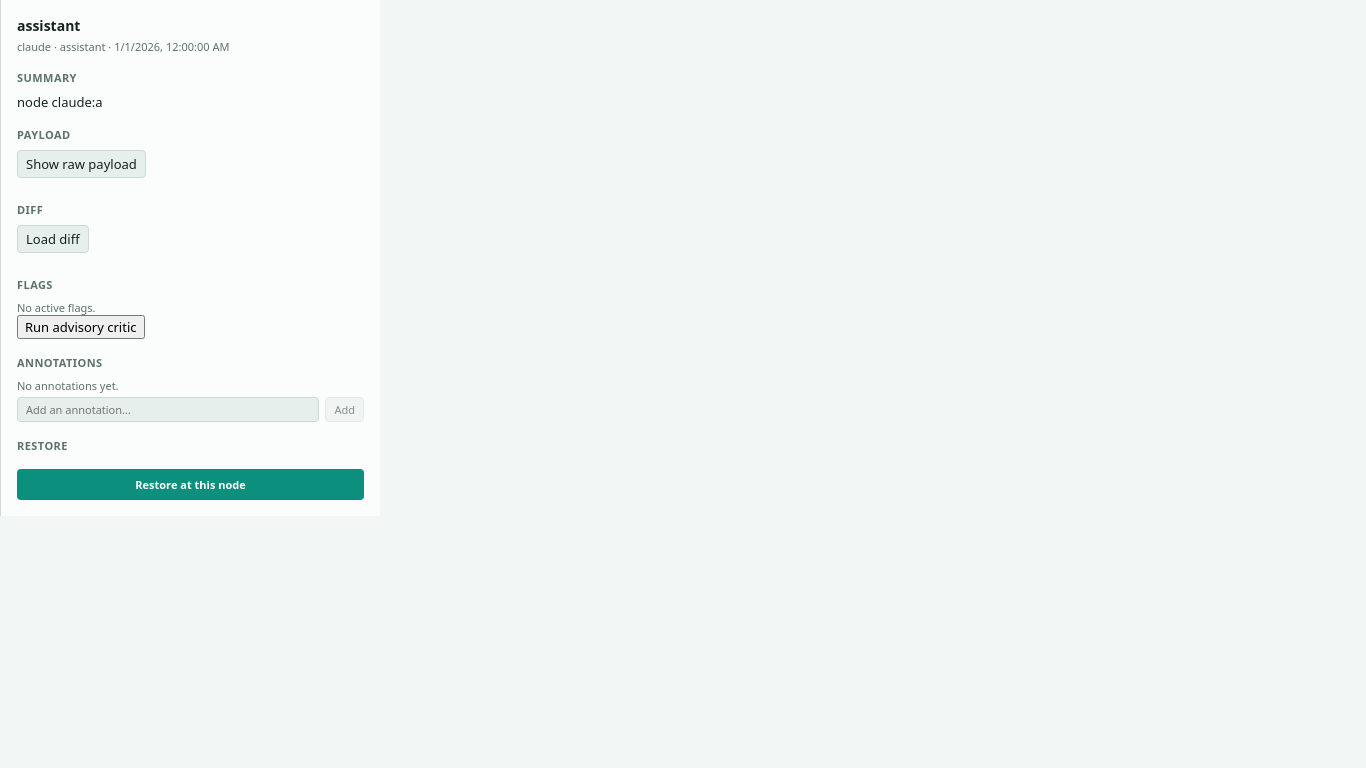
it: HarvestFlow / preflight › is reachable only from a restore result, and preflights that worktree
The image size is (1366, 768).
Click the button "Restore at this node" at (190, 484), box [17, 469, 364, 500]
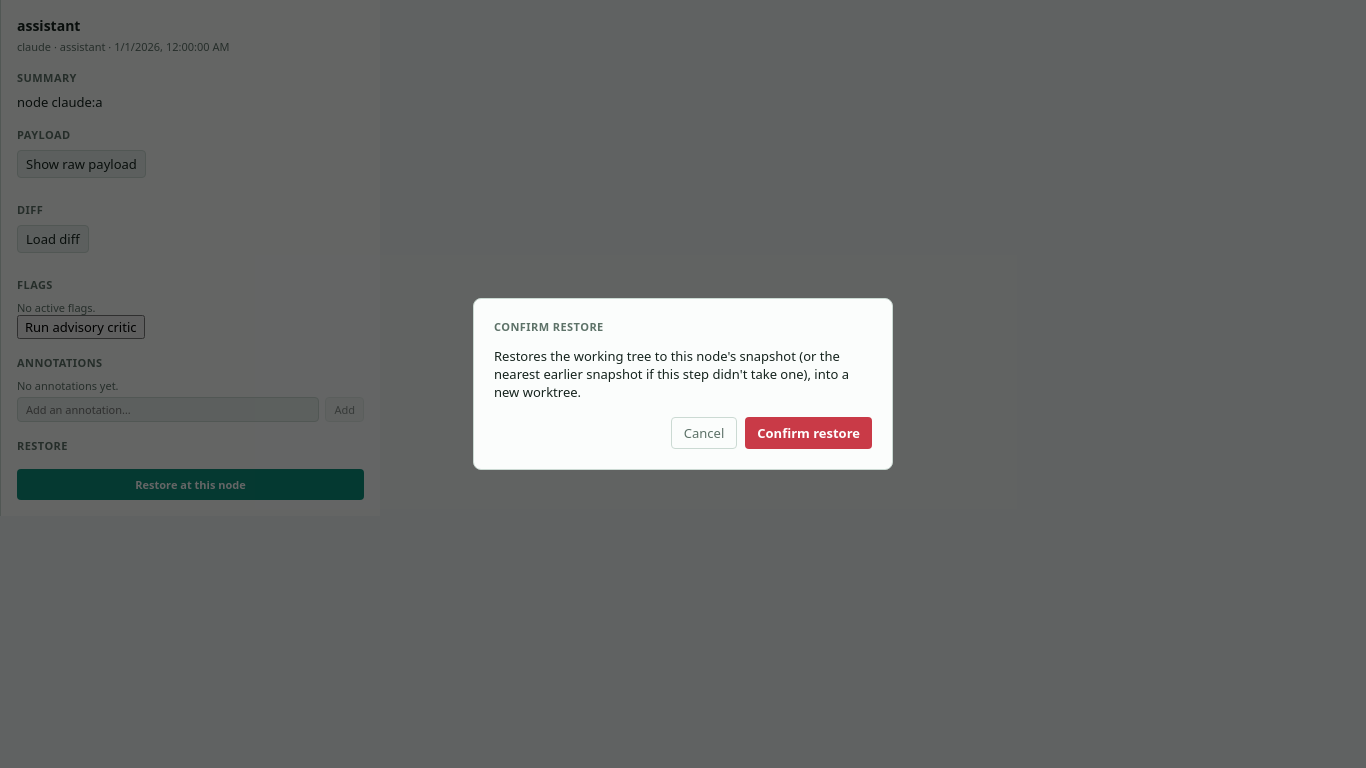
Check: the dialog is shown
Click the button "Confirm restore" at (809, 433), box [745, 417, 872, 449]
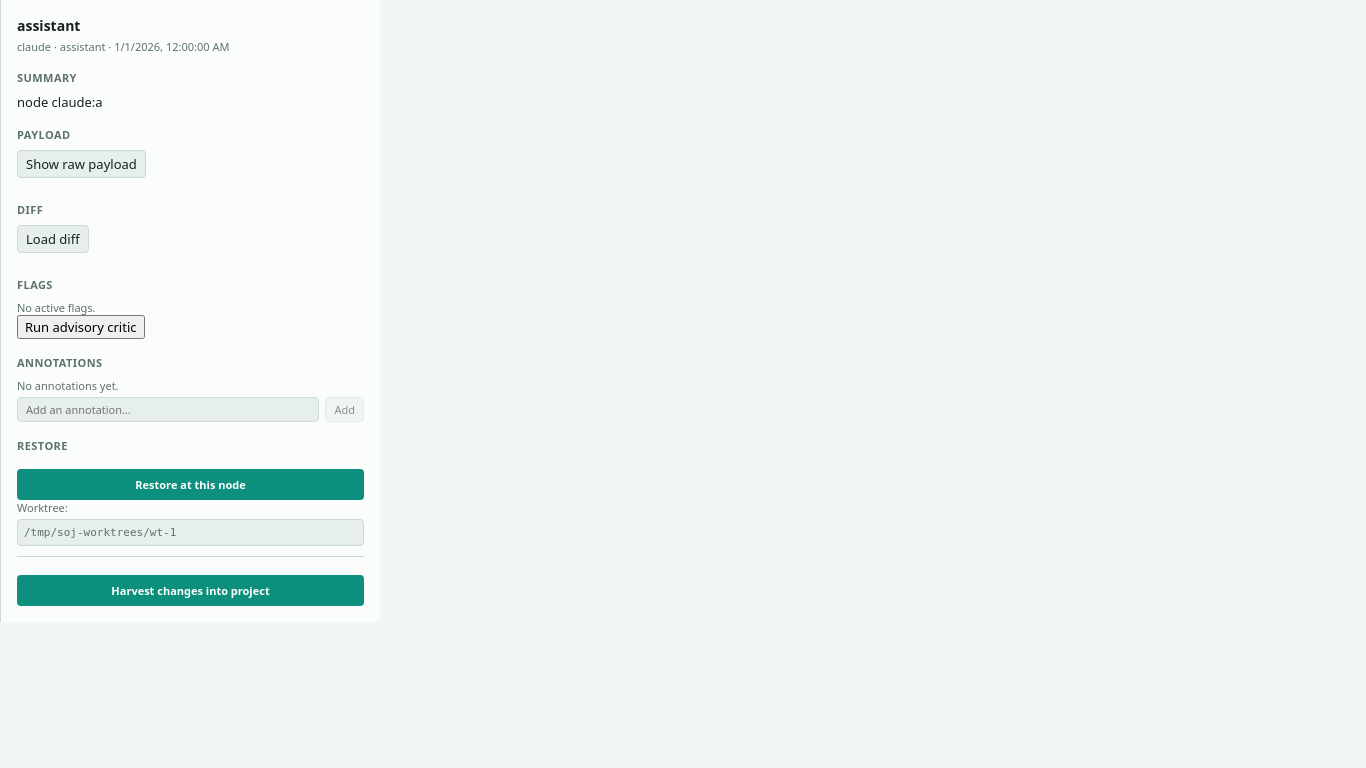
Check: the element with test id "harvest-flow" is shown, box [17, 556, 364, 606]
Click the button "Harvest changes into project" at (190, 590), box [17, 575, 364, 606]
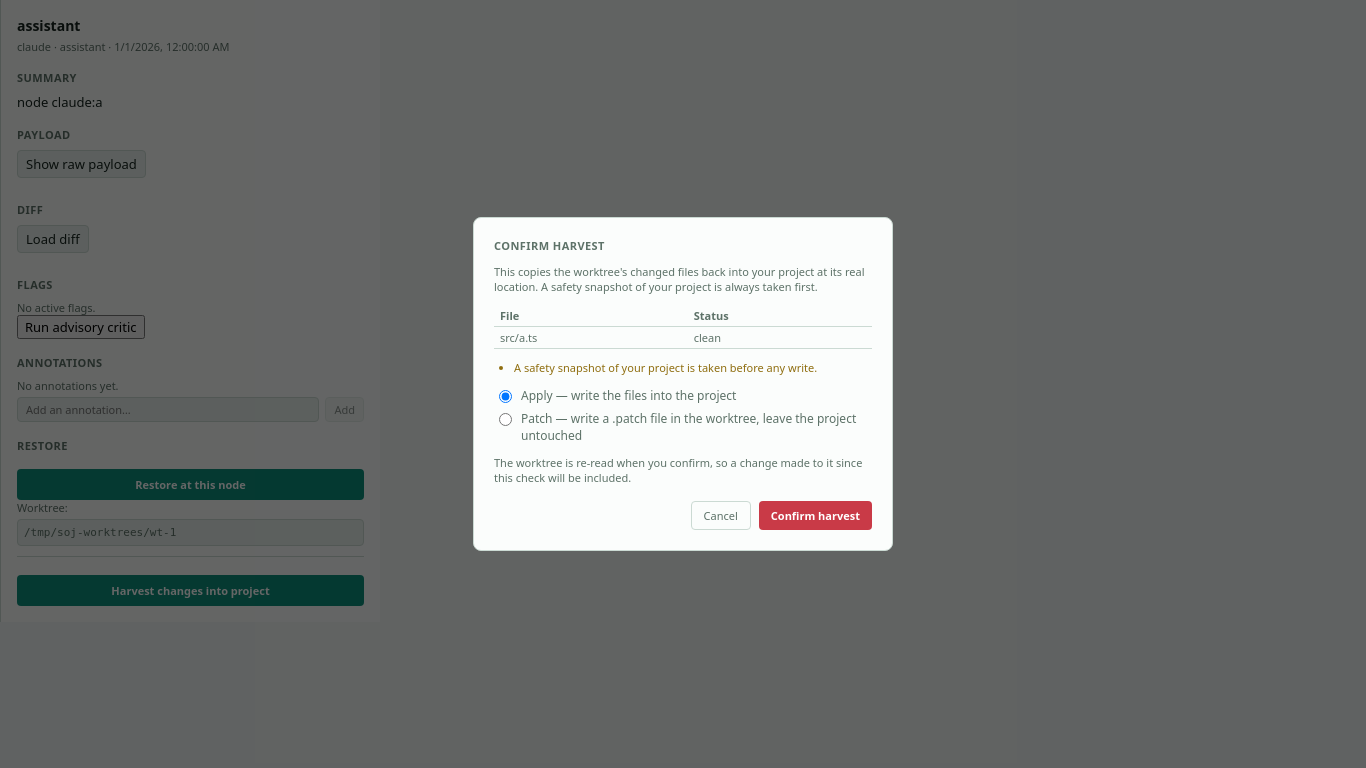
Check: the table with test id "harvest-files" is shown, box [494, 305, 872, 349]
